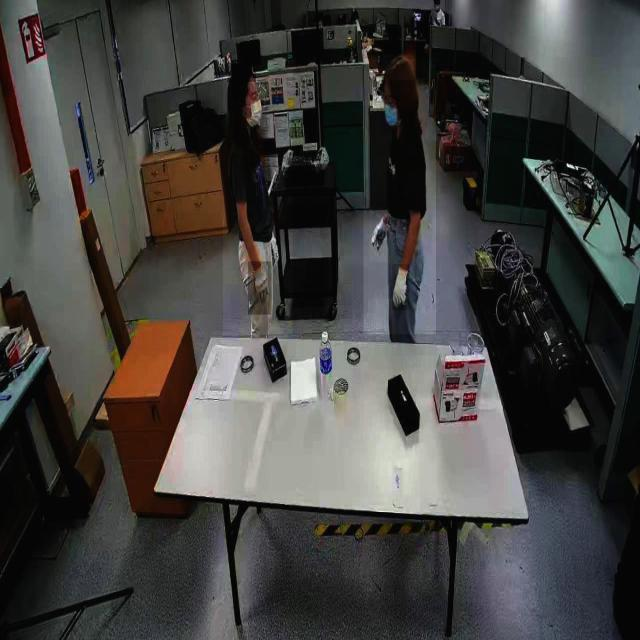face_mask: (241, 84, 265, 128), (380, 95, 398, 135)
hand_glove: (248, 262, 272, 316), (370, 214, 388, 262), (392, 264, 410, 311)
head_nohelmet: (383, 54, 415, 81), (228, 63, 256, 83)
person: (364, 59, 436, 335), (223, 55, 293, 336)
